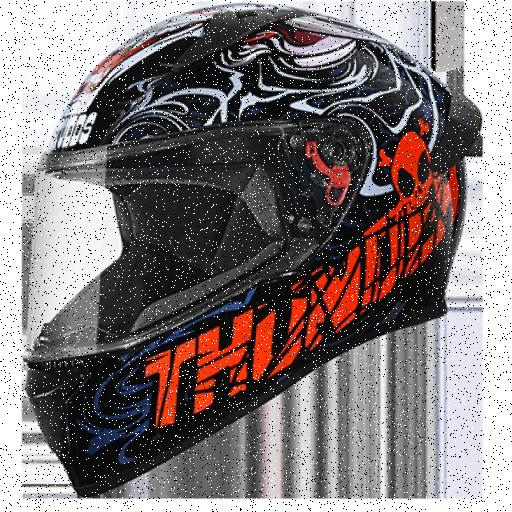Helmet: (24, 5, 501, 495)
